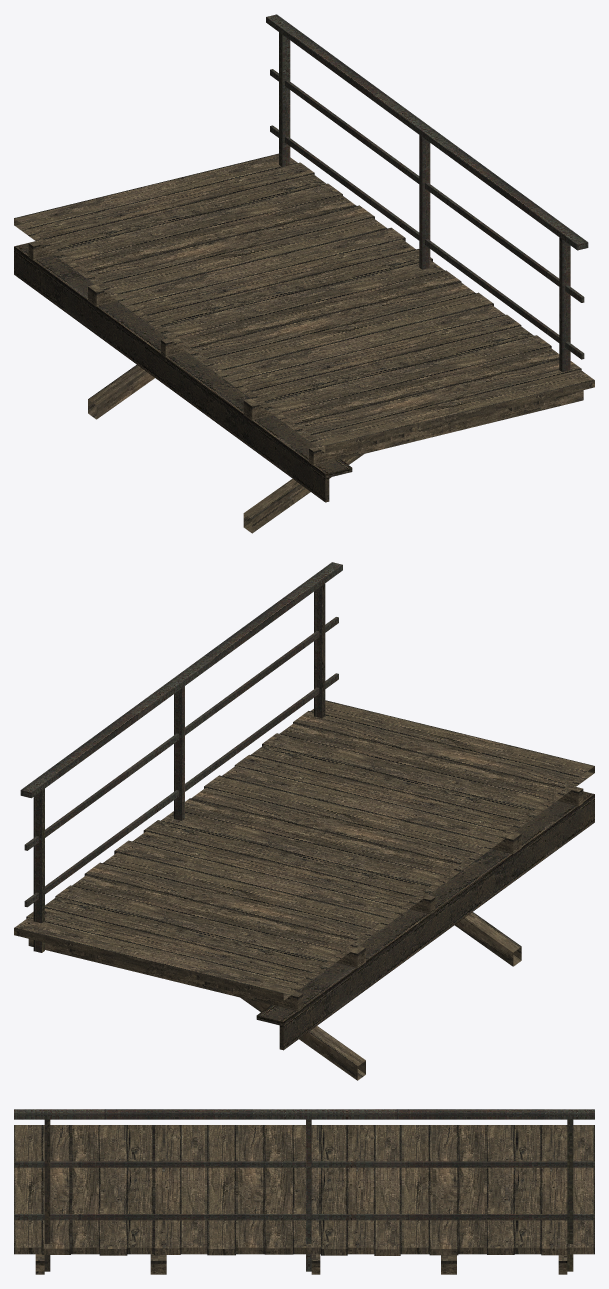
File: platform_ax_2.glb
3 renders of one model, top to bottom at view 1: azimuth 30°, elevation 25°; view 2: azimuth 150°, elevation 25°; view 3: azimuth 270°, elevation 25°, orthographic. The views are drawn at different scales.
Visible parts, largest first — view 1: platform_ax_2; view 2: platform_ax_2; view 3: platform_ax_2.
Part boxes in pixels (<box>): platform_ax_2: <box>14,14,594,533</box>; platform_ax_2: <box>14,562,594,1080</box>; platform_ax_2: <box>14,1109,594,1274</box>.
Size of the model in its own units: 2.03 by 1.99 by 4.
Materials: 2 (2 with a texture image).
